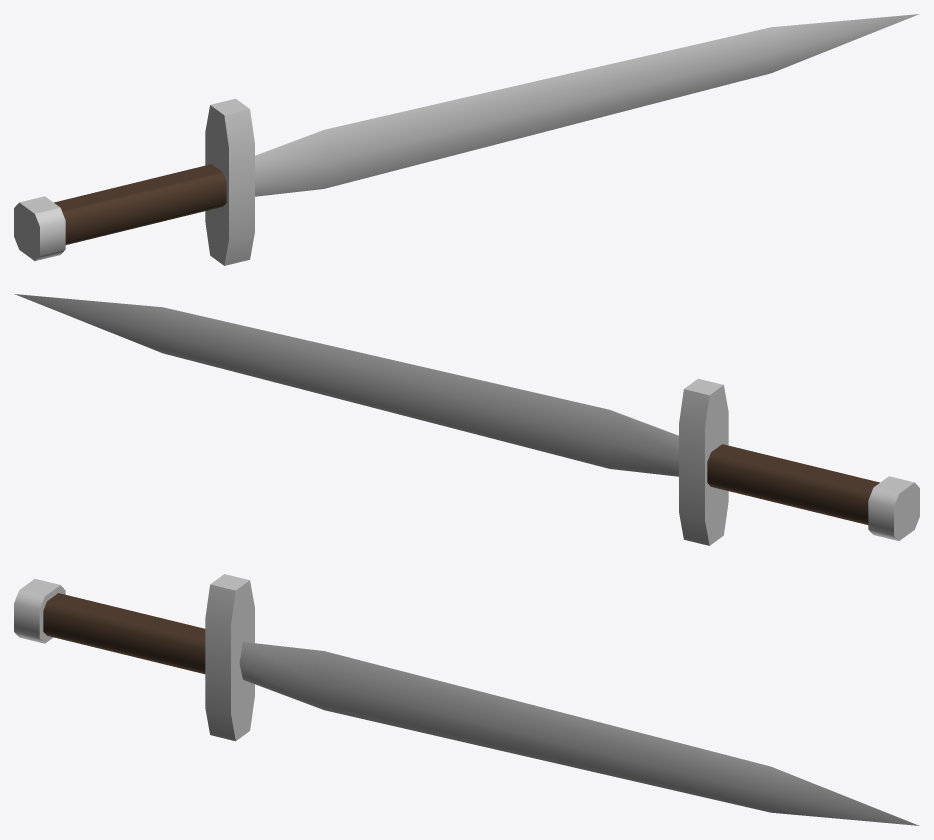
File: longsword.obj
3 renders of one model, top to bottom at view 1: azimuth 30°, elevation 25°; view 2: azimuth 150°, elevation 25°; view 3: azimuth 330°, elevation 25°, orthographic.
Parts seen in each view (by area): view 1: lenticular_blade, grip, guard, pommel; view 2: lenticular_blade, grip, guard, pommel; view 3: lenticular_blade, grip, guard, pommel.
Boxes of the visible parts, x1,y1,x2,y2 form: lenticular_blade: (255, 14, 919, 196); grip: (54, 164, 226, 244); guard: (205, 98, 254, 265); pommel: (14, 196, 65, 260); lenticular_blade: (14, 294, 678, 476); grip: (707, 444, 879, 524); guard: (679, 378, 728, 545); pommel: (868, 476, 919, 540); lenticular_blade: (239, 642, 919, 825); grip: (43, 593, 205, 674); guard: (205, 574, 254, 741); pommel: (14, 579, 65, 643).
Size of the model in its own units: 0.8685 by 0.14 by 0.044.
